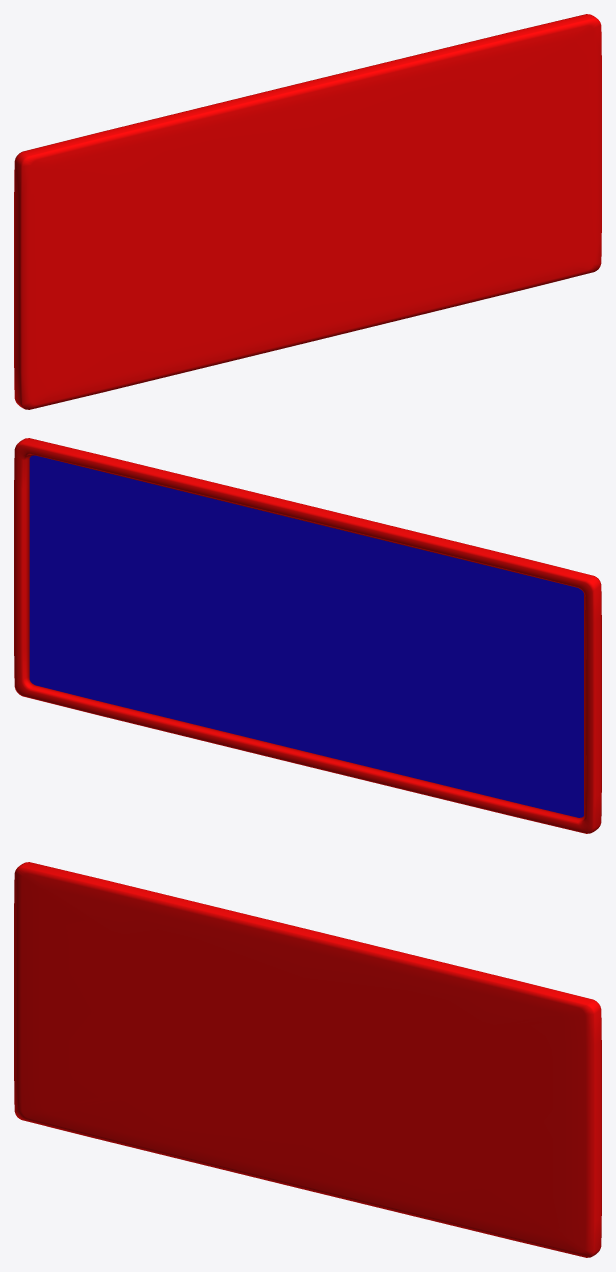
The model's file is prop_tv.FBX.
3 views of the same model, one above another, from view 1: azimuth 30°, elevation 25°; view 2: azimuth 150°, elevation 25°; view 3: azimuth 330°, elevation 25° (orthographic).
Parts seen in each view (by area): view 1: light_title; view 2: light_title; view 3: light_title.
Boxes of the visible parts, x1,y1,x2,y2 form: light_title: (14, 14, 601, 409); light_title: (14, 438, 601, 833); light_title: (14, 862, 601, 1257).
Size of the model in its own units: 128 by 53.56 by 3.3.
